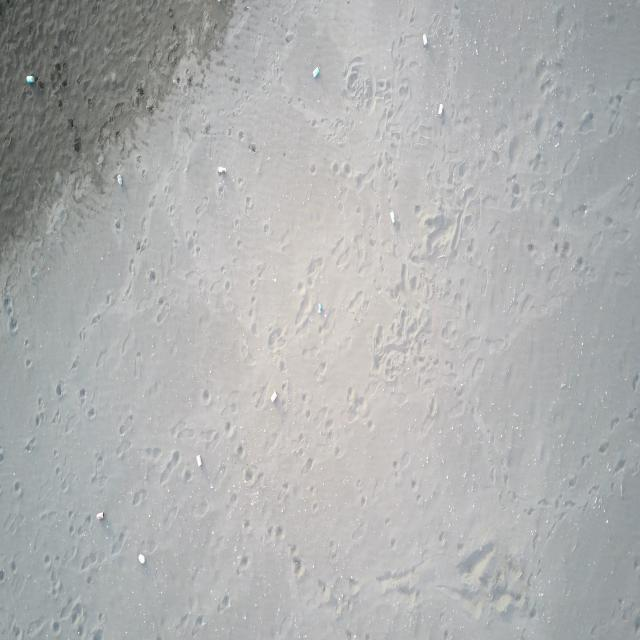tin-and-aluminum-cans: (216, 165, 228, 175), (312, 66, 320, 80), (196, 452, 203, 468), (138, 553, 147, 565), (270, 390, 278, 403), (26, 74, 36, 84), (95, 511, 105, 521), (389, 210, 396, 224), (422, 32, 428, 48), (116, 174, 124, 186), (438, 102, 444, 116), (317, 302, 323, 314)
